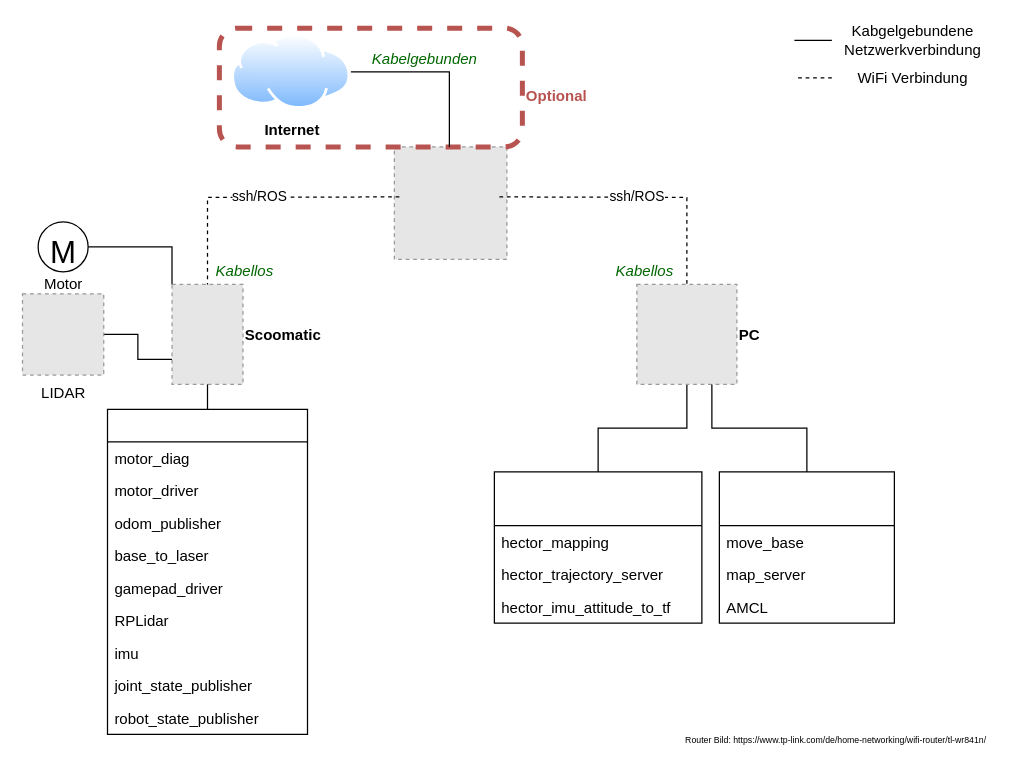
The diagram is 1024 pixels wide and 771 high, and some of its shapes have lost their labels. Grey dashed boxes stand in for pictures. The box of each missing label's shape, as (x1, y1, x2, y2) in pixels:
scoomatic_drive -> HectorSLAM: (493, 471, 702, 623)
scoomatic_drive -> Navigation: (718, 471, 894, 623)
scoomatic_ros1: (106, 408, 308, 734)
